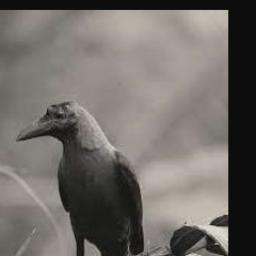Crow: (15, 100, 145, 256)
